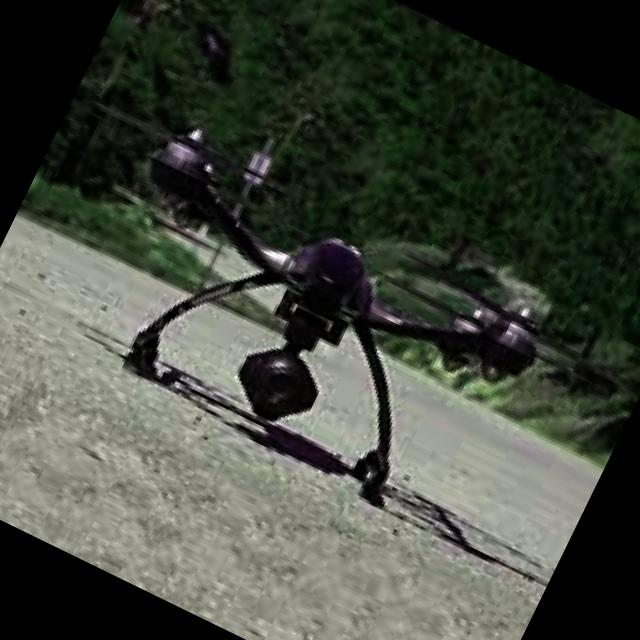drone: (0, 41, 622, 575)
